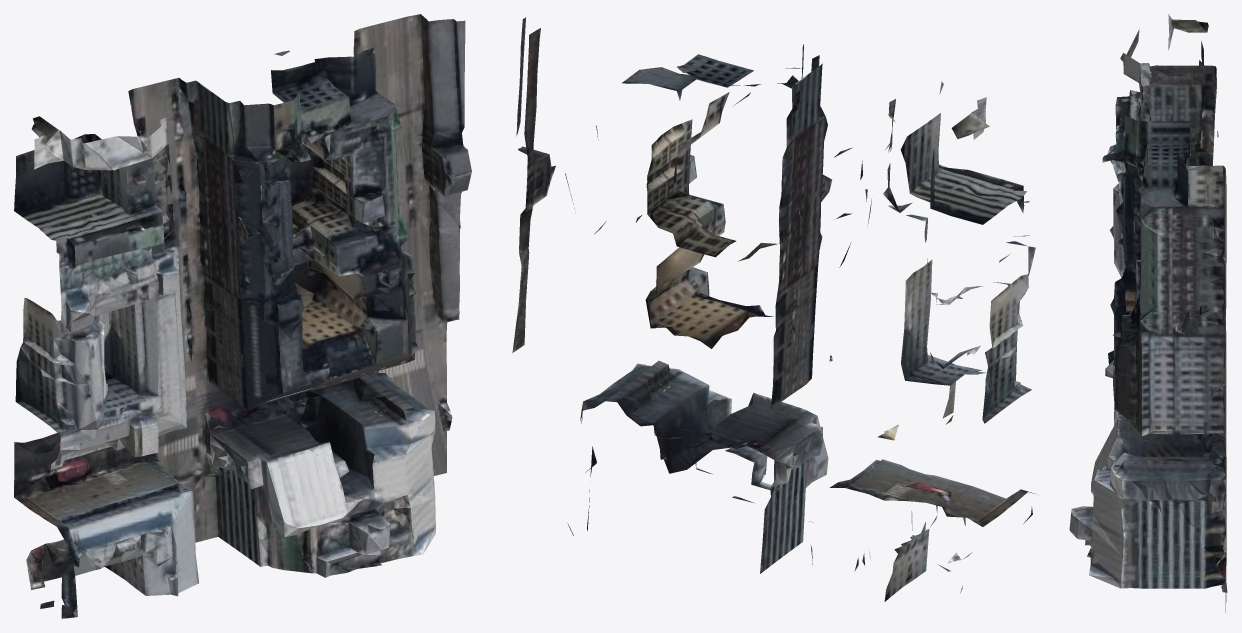
The model's file is Tile_+036_+019_L17_0000.glb.
3 renders of one model, left to right at view 1: azimuth 30°, elevation 25°; view 2: azimuth 150°, elevation 25°; view 3: azimuth 270°, elevation 25°, orthographic. The views are drawn at different scales.
Size of the model in its own units: 126 by 126 by 43.73.
Materials: 1 (1 with a texture image).
